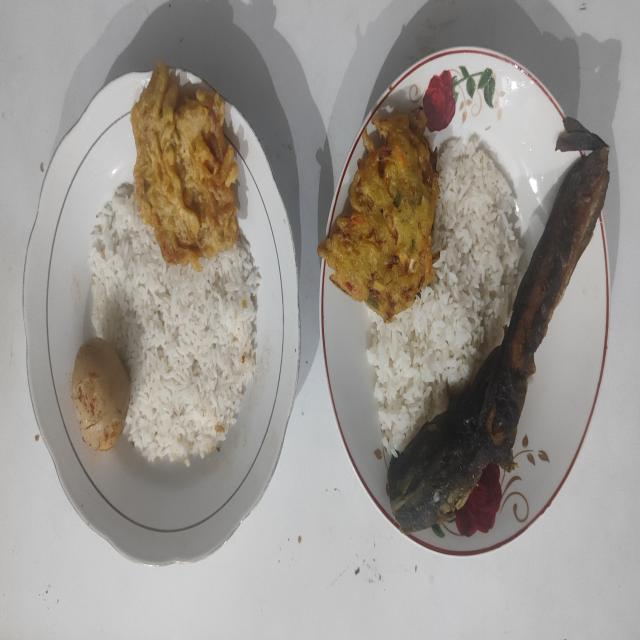nasi_putih: (366, 136, 520, 456), (89, 184, 261, 466)
